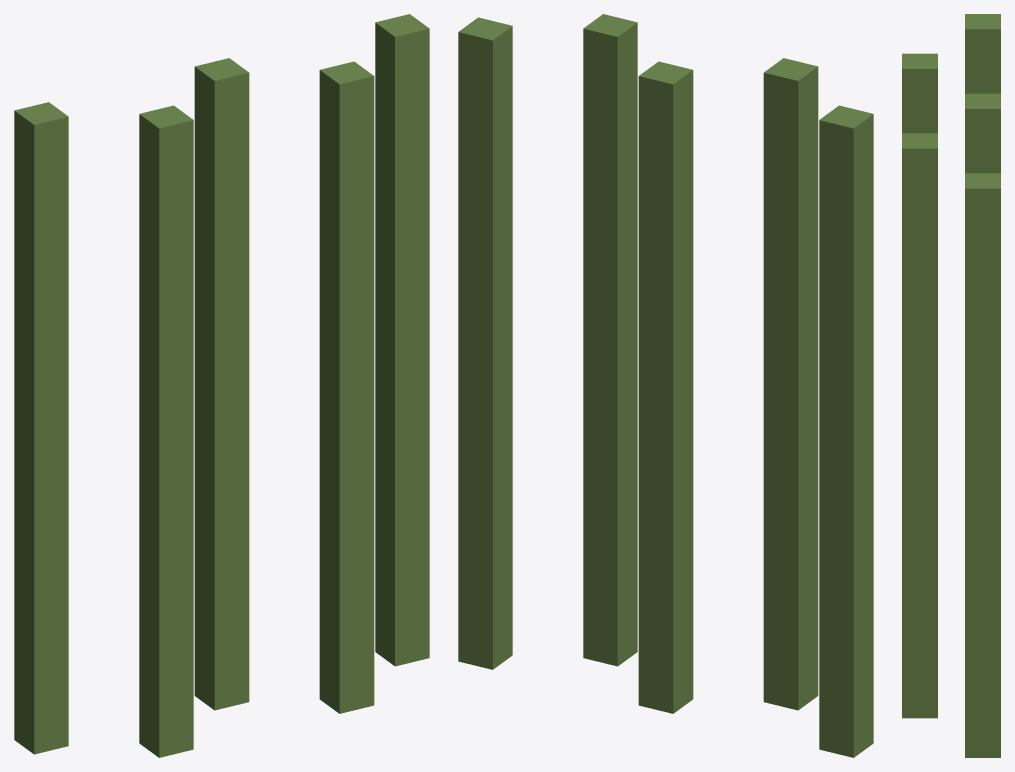
File: lake-rdest-shallows-0.glb
The picture shows the model from 3 angles, left to right: view 1: azimuth 30°, elevation 25°; view 2: azimuth 150°, elevation 25°; view 3: azimuth 270°, elevation 25°; orthographic projection. The views are drawn at different scales.
Visible parts, largest first — view 1: stems-2, stems-3, stems-0, stems-1, stems-4; view 2: stems-2, stems-1, stems-3, stems-4, stems-0; view 3: stems-3, stems-4, stems-1, stems-2, stems-0.
Boxes of the visible parts, x1,y1,x2,y2 form: stems-2: (194, 58, 249, 710); stems-3: (319, 61, 374, 713); stems-0: (14, 102, 68, 754); stems-1: (139, 105, 193, 757); stems-4: (375, 14, 429, 666); stems-2: (638, 61, 693, 713); stems-1: (763, 58, 818, 710); stems-3: (583, 14, 637, 666); stems-4: (458, 17, 512, 669); stems-0: (819, 105, 873, 757); stems-3: (902, 133, 937, 718); stems-4: (965, 173, 1000, 757); stems-1: (902, 53, 937, 133); stems-2: (965, 93, 1000, 173); stems-0: (965, 14, 1000, 93).
Bounding box in the file's own units: 0.526 × 0.8 × 0.126.
